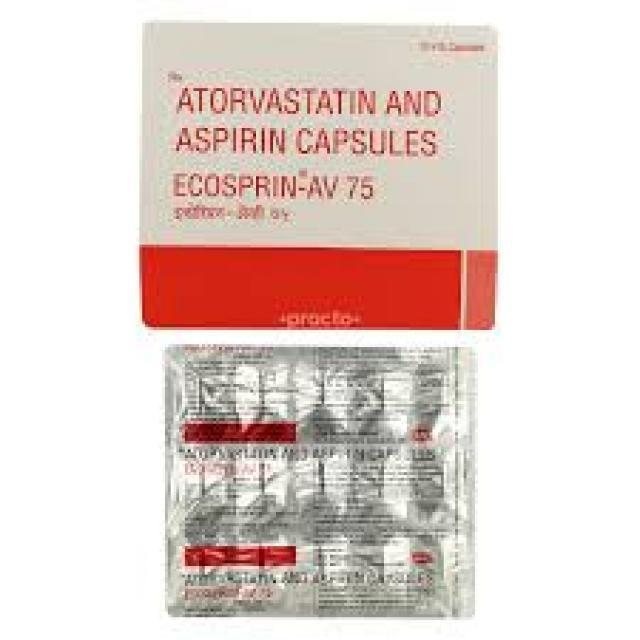authentic: (124, 12, 503, 342), (154, 333, 484, 635)
